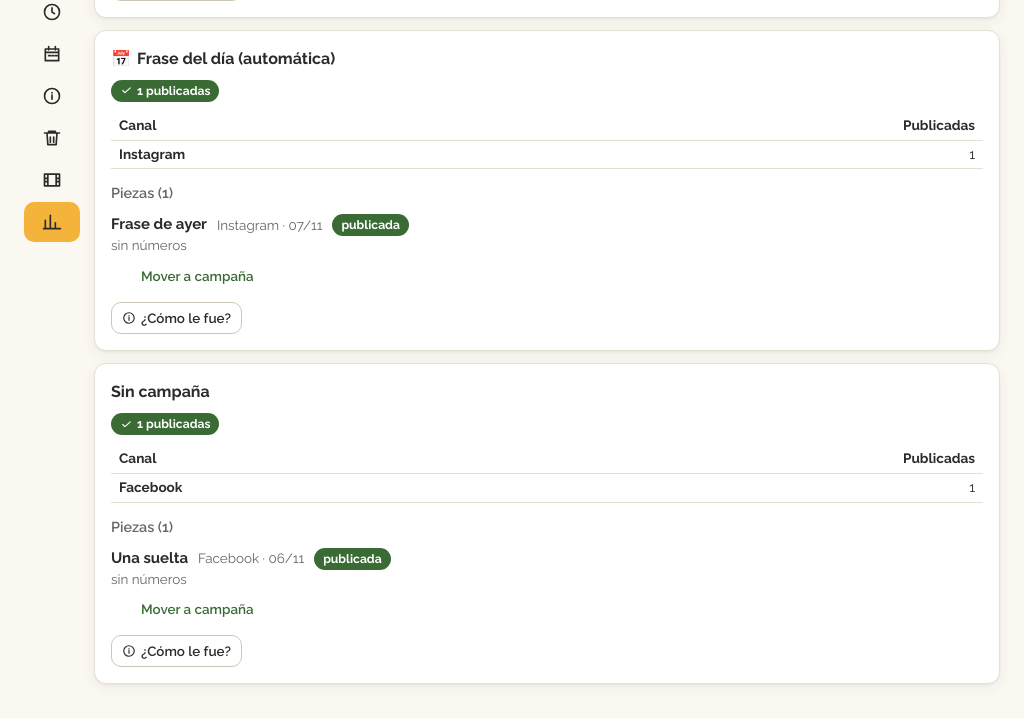
Test: Métricas › si no puede mover la pieza, muestra el motivo en castellano
(page scrolled)
Click the button "Mover a campaña" below "Una suelta" at {"x": 188, "y": 609}, box [111, 593, 265, 625]
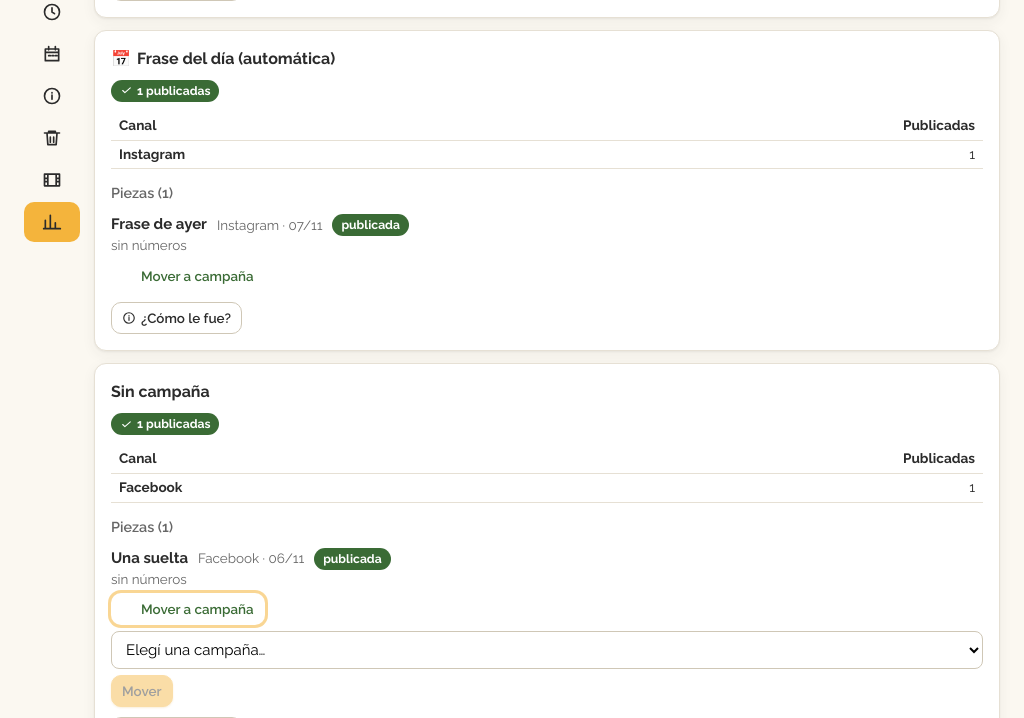
Select "🤝 Lo común nos convoca" in the dropdown named "Campaña de destino" at {"x": 547, "y": 650}, box [111, 631, 983, 669]
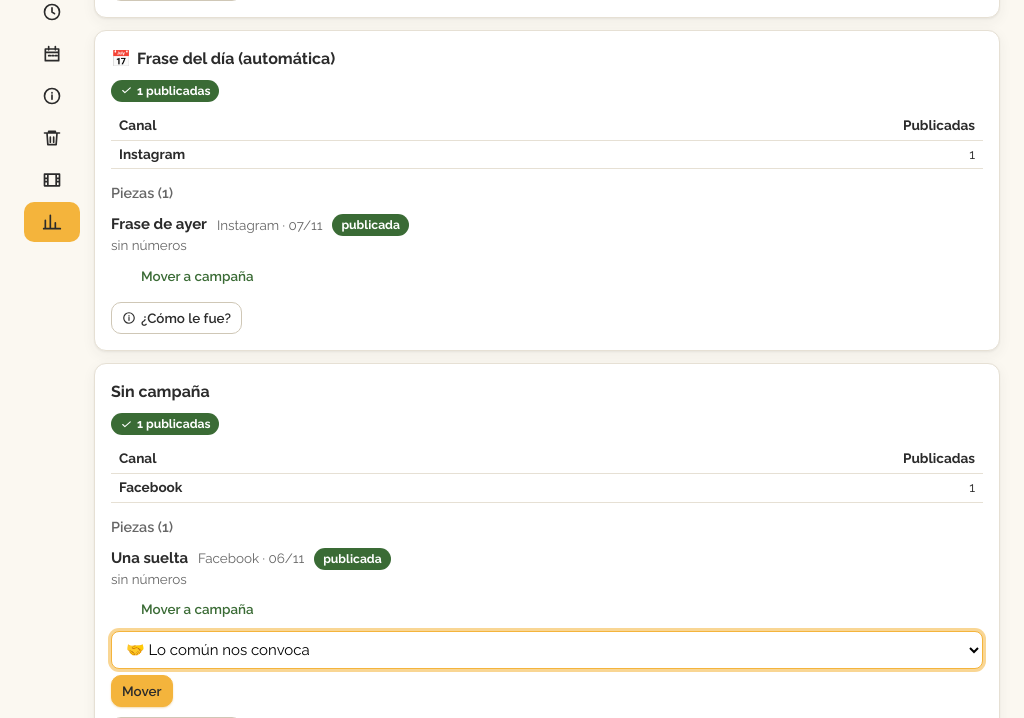
Click the button "Mover" at {"x": 142, "y": 691}, box [111, 675, 172, 707]
(page scrolled)
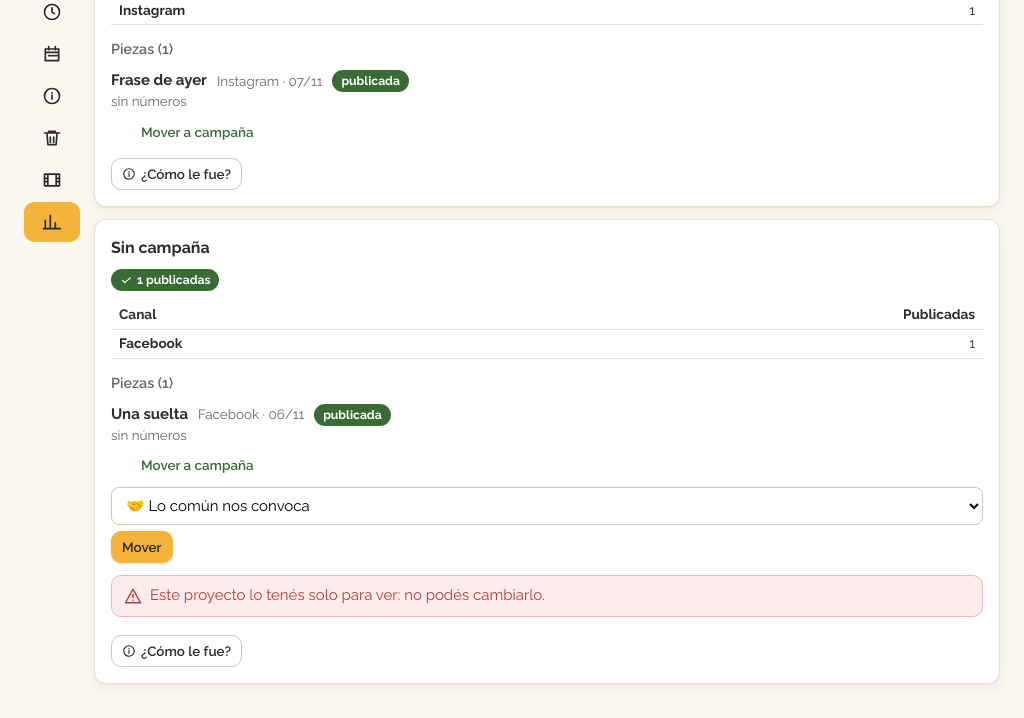
Expected: the text "Este proyecto lo tenés solo para ver: no podés cambiarlo." is shown, [111, 575, 983, 617]
